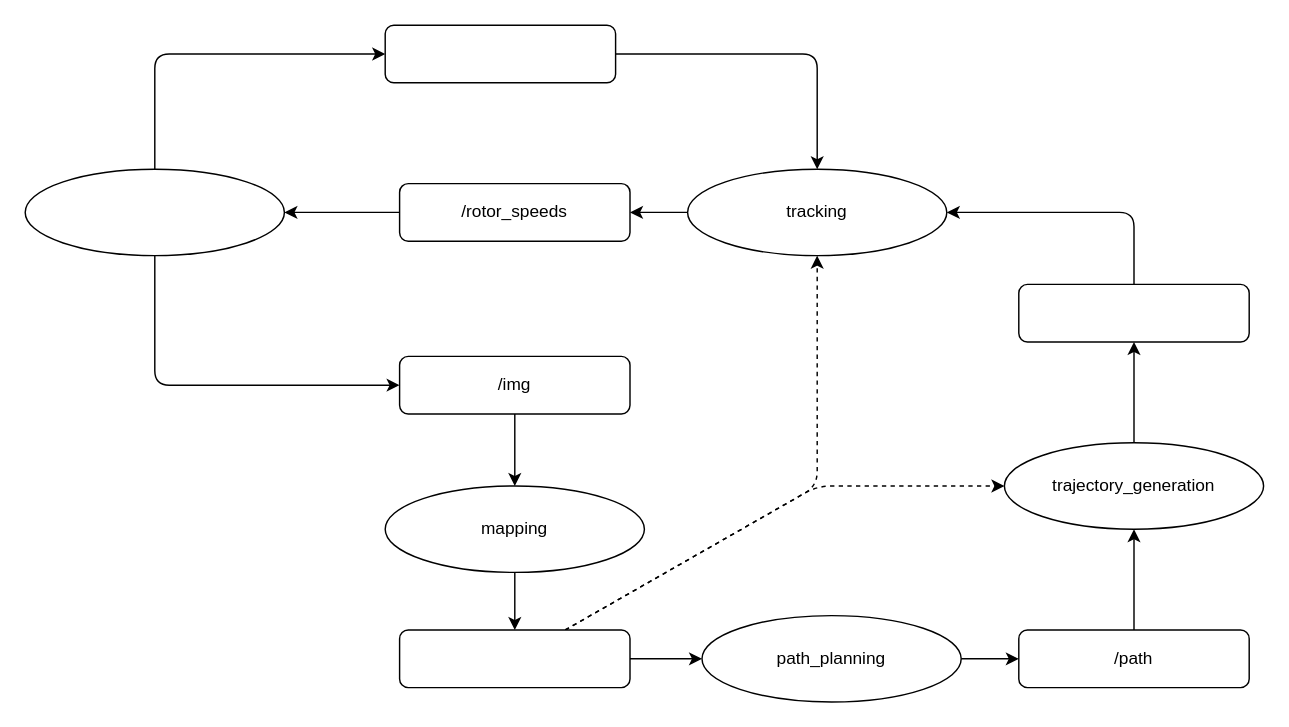
The diagram is 1289 pixels wide and 727 high, and some of its shapes have lost their labels. Here are the shapes that lost their labels. From the top down, the centre of each, then its label:
At (x=500, y=53): "/state".
At (x=154, y=212): "simulation".
At (x=1133, y=312): "/ref_state".
At (x=514, y=658): "/map".
